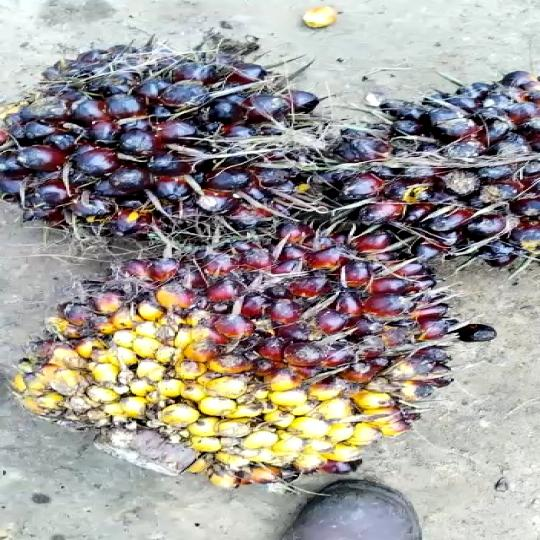kurang masak: (15, 241, 473, 492), (44, 28, 305, 215), (326, 73, 540, 263)
